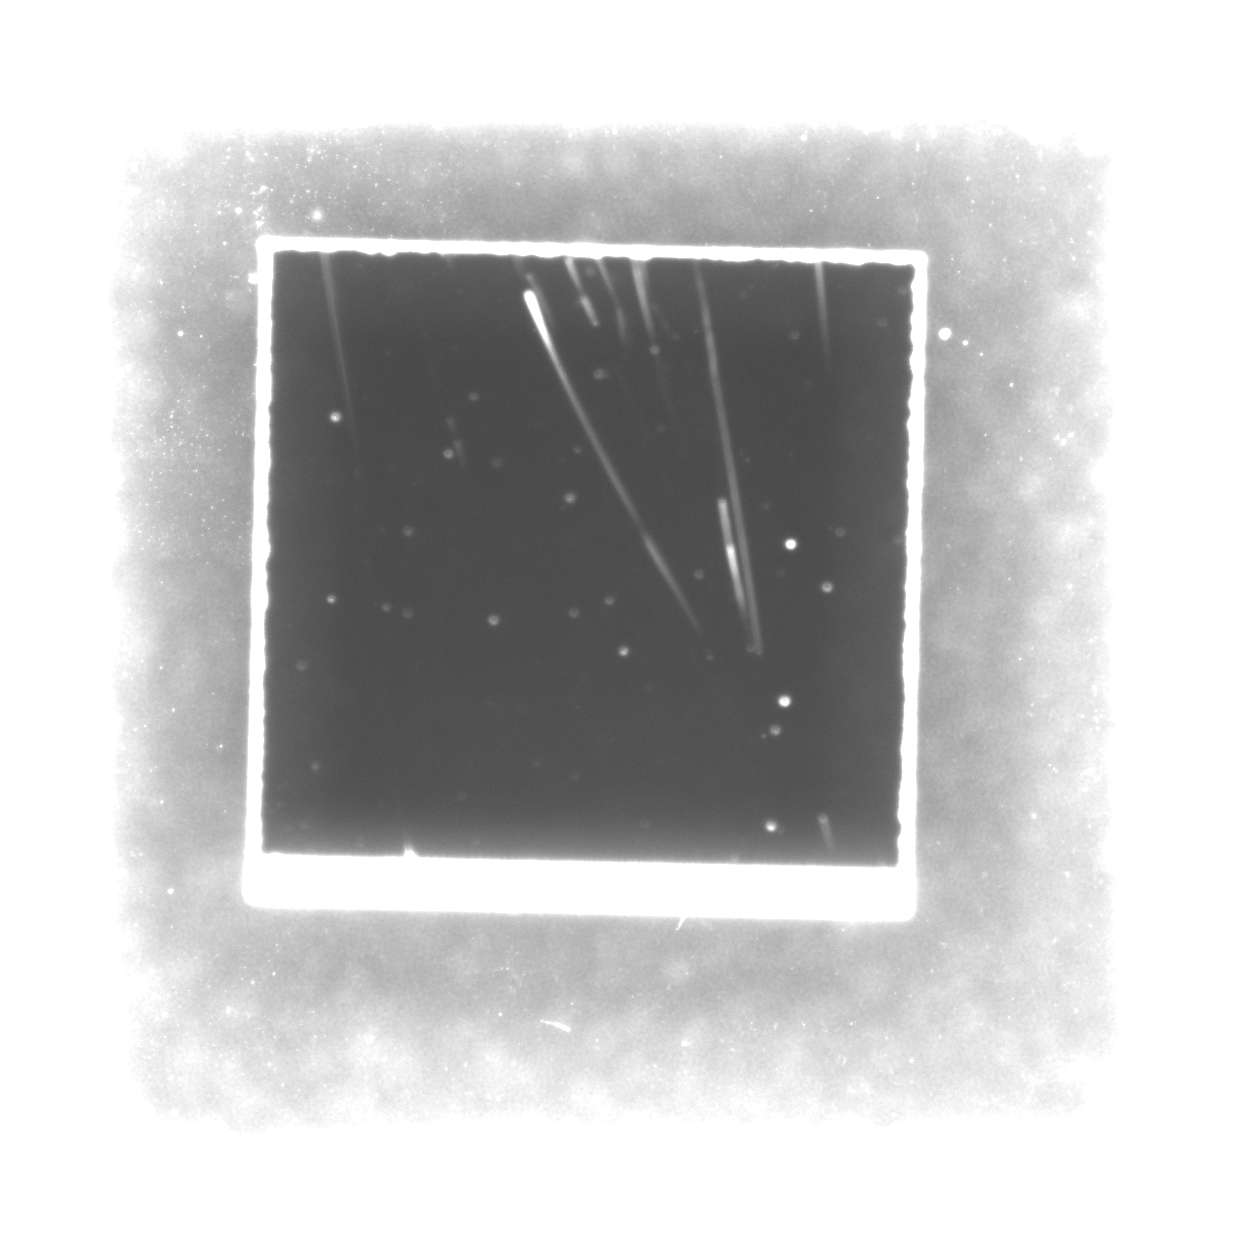dot: (817, 573, 838, 602), (778, 532, 802, 556), (772, 690, 795, 711), (614, 640, 634, 662), (763, 817, 783, 836), (327, 407, 346, 424)
edge_bottom: (232, 834, 932, 942)
light_scratch: (512, 280, 684, 592), (683, 272, 783, 647), (623, 249, 663, 338), (808, 258, 844, 351), (556, 253, 600, 323)
